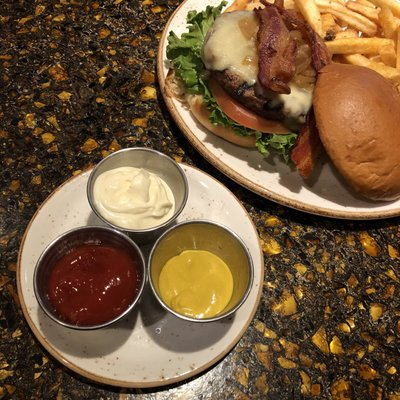soup: (159, 0, 331, 156)
sushi: (34, 226, 148, 331), (147, 222, 252, 322), (86, 148, 189, 239)
